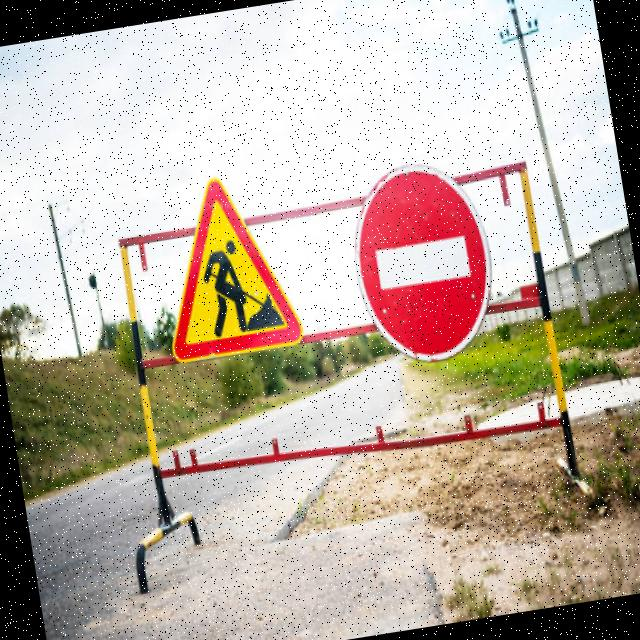do_not_enter: (337, 142, 510, 377)
road_work: (146, 163, 306, 374)
